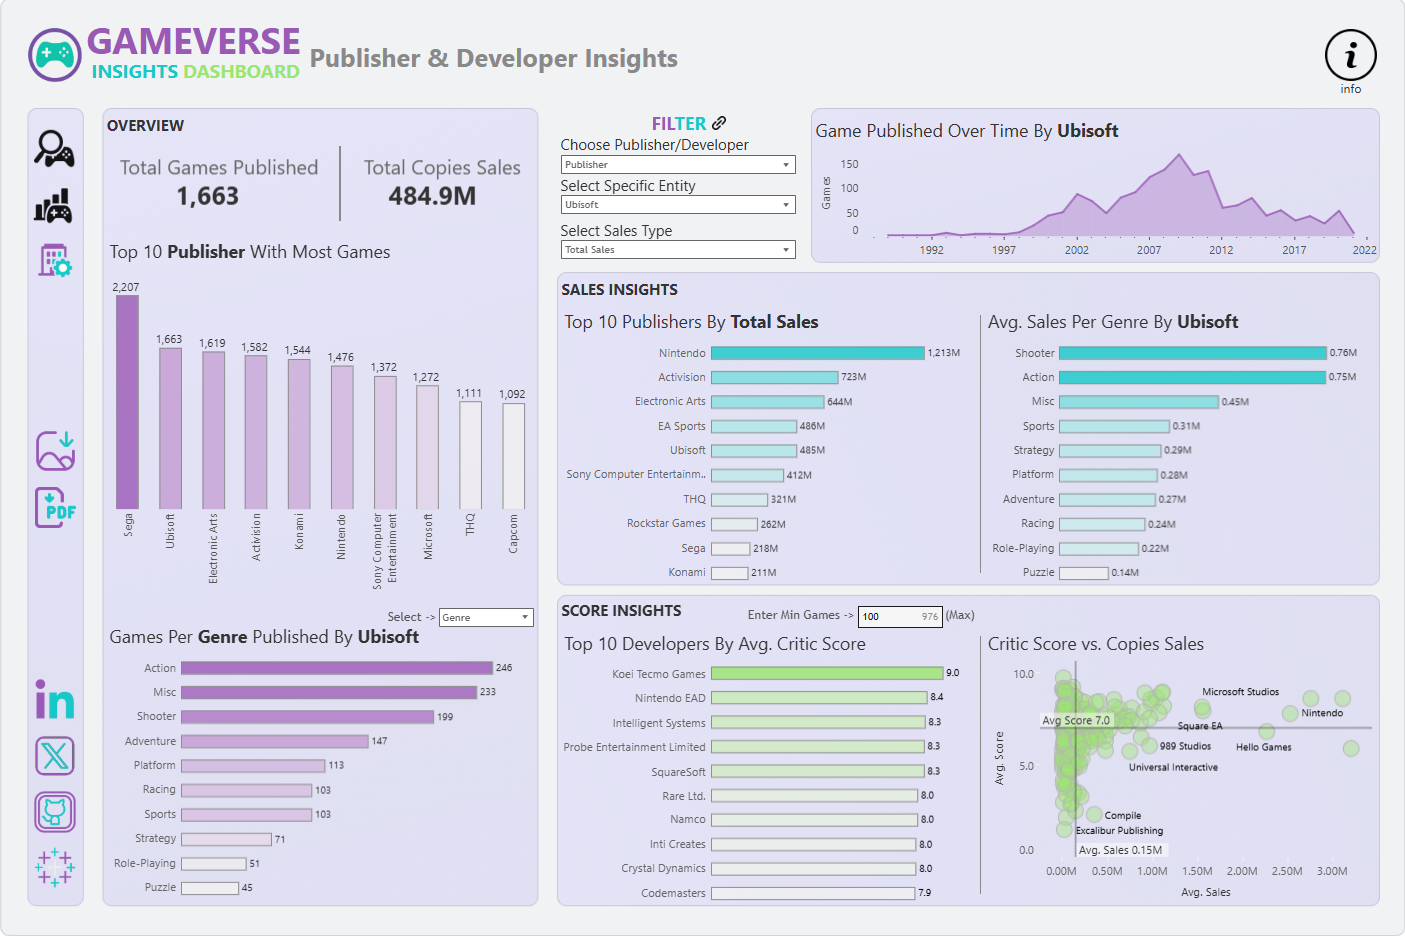

This screenshot's page, from the dashboard's own definition file:
{"tool":"tableau","page":{"name":"Dashboard 3","canvas":[1400,800],"ordinal":2},"visuals":[{"type":"image","param":"Image/Frame 3.png","box":[0,0,1400,800]},{"type":"blank","box":[26,3,698,98]},{"type":"image","param":"Image/Logo.png","box":[8,8,260,90]},{"type":"blank","box":[268,8,1124,90]},{"type":"dashboard-object","box":[1310,17,54,54]},{"type":"text","box":[275,33,566,43]},{"type":"blank","box":[91,104,1298,186]},{"type":"blank","box":[28,108,60,10]},{"type":"text","box":[108,108,465,25]},{"type":"parameter","param":"[Parameters].[Parameter 3]","box":[593,108,260,53]},{"type":"worksheet","title":"Pub/Dev Over Time","mark":"Line","rows":["title","title"],"cols":["release_date"],"box":[863,108,509,155]},{"type":"blank","box":[106,111,466,155]},{"type":"dashboard-object","box":[28,118,60,60]},{"type":"worksheet","title":"BAN - TotalGames","mark":"Automatic","box":[108,133,253,100]},{"type":"blank","box":[361,133,2,100]},{"type":"worksheet","title":"BANs - Sales/Score","mark":"Automatic","box":[363,133,210,100]},{"type":"filter","title":"Games per Con/Gen by Pub/Dev","param":"[federated.18w1nm404yaaw618ulkqm1dnj3dy].[none:Select Specific (copy)_1203305593","box":[593,161,260,49]},{"type":"dashboard-object","box":[28,178,60,60]},{"type":"parameter","param":"[Parameters].[Parameter 2]","box":[593,210,260,53]},{"type":"worksheet","title":"Top 10 Pub/Dev","mark":"Automatic","rows":["Video Games Data.csv_87575D1885CE4F9F9E11FA6B9C9073A3"],"cols":["Calculation_1203305593479016448"],"box":[108,233,465,248]},{"type":"dashboard-object","box":[28,238,60,60]},{"type":"text","box":[593,273,779,25]},{"type":"text","box":[91,290,1298,298]},{"type":"blank","box":[28,298,60,123]},{"type":"worksheet","title":"Top 10 Pub (sales)","mark":"Automatic","rows":["publisher"],"cols":["Calculation_1052435005628178432"],"box":[593,298,385,202]},{"type":"blank","box":[978,298,1,202]},{"type":"worksheet","title":"Avg Sales Per Genre By Pub","mark":"Automatic","rows":["genre"],"cols":["Calculation_1052435005628178432"],"box":[979,298,393,202]},{"type":"dashboard-object","box":[28,421,60,55]},{"type":"dashboard-object","box":[28,476,60,55]},{"type":"worksheet","title":"Games per Con/Gen by Pub/Dev","mark":"Automatic","rows":["Calculation_1272829846112575488"],"cols":["Video Games Data.csv_87575D1885CE4F9F9E11FA6B9C9073A3"],"box":[108,481,465,291]},{"type":"text","box":[413,488,126,30]},{"type":"parameter","param":"[Parameters].[Parameter 1]","box":[467,492,97,48]},{"type":"text","box":[593,510,779,25]},{"type":"text","box":[749,510,126,30]},{"type":"filter","title":"Top 10 Dev (Score)","param":"[federated.18w1nm404yaaw618ulkqm1dnj3dy].[sum:Calculation_680606561990561792:qk]","box":[870,516,85,33]},{"type":"blank","box":[28,531,60,50]},{"type":"worksheet","title":"Top 10 Dev (Score)","mark":"Bar","rows":["developer"],"cols":["Calculation_680606561990733825"],"box":[593,535,385,237]},{"type":"blank","box":[978,535,1,237]},{"type":"worksheet","title":"Score vs Sales","mark":"Shape","rows":["critic_score"],"cols":["total_sales"],"box":[979,535,393,237]},{"type":"image","param":"Image/contact-linkedin.png","box":[28,581,60,60]},{"type":"blank","box":[91,588,1298,186]},{"type":"image","param":"Image/contact-github.png","box":[28,641,60,61]},{"type":"image","param":"Image/contact-public.png","box":[28,702,60,60]},{"type":"blank","box":[28,762,60,10]}]}

Visuals, with their boxes on the page's 1400x800 design canvas (x1, y1, x2, y2). These are canvas units, not pixel positions in the 1405x936 screenshot, which may show the page scaled, cropped or inside an application window:
image: bbox(0, 0, 1400, 800)
blank: bbox(26, 3, 724, 101)
image: bbox(8, 8, 268, 98)
blank: bbox(268, 8, 1392, 98)
dashboard-object: bbox(1310, 17, 1364, 71)
text: bbox(275, 33, 841, 76)
blank: bbox(91, 104, 1389, 290)
blank: bbox(28, 108, 88, 118)
text: bbox(108, 108, 573, 133)
parameter: bbox(593, 108, 853, 161)
"Pub/Dev Over Time" worksheet (Line marks): bbox(863, 108, 1372, 263)
blank: bbox(106, 111, 572, 266)
dashboard-object: bbox(28, 118, 88, 178)
"BAN - TotalGames" worksheet: bbox(108, 133, 361, 233)
blank: bbox(361, 133, 363, 233)
"BANs - Sales/Score" worksheet: bbox(363, 133, 573, 233)
"Games per Con/Gen by Pub/Dev" filter: bbox(593, 161, 853, 210)
dashboard-object: bbox(28, 178, 88, 238)
parameter: bbox(593, 210, 853, 263)
"Top 10 Pub/Dev" worksheet: bbox(108, 233, 573, 481)
dashboard-object: bbox(28, 238, 88, 298)
text: bbox(593, 273, 1372, 298)
text: bbox(91, 290, 1389, 588)
blank: bbox(28, 298, 88, 421)
"Top 10 Pub (sales)" worksheet: bbox(593, 298, 978, 500)
blank: bbox(978, 298, 979, 500)
"Avg Sales Per Genre By Pub" worksheet: bbox(979, 298, 1372, 500)
dashboard-object: bbox(28, 421, 88, 476)
dashboard-object: bbox(28, 476, 88, 531)
"Games per Con/Gen by Pub/Dev" worksheet: bbox(108, 481, 573, 772)
text: bbox(413, 488, 539, 518)
parameter: bbox(467, 492, 564, 540)
text: bbox(593, 510, 1372, 535)
text: bbox(749, 510, 875, 540)
"Top 10 Dev (Score)" filter: bbox(870, 516, 955, 549)
blank: bbox(28, 531, 88, 581)
"Top 10 Dev (Score)" worksheet (Bar marks): bbox(593, 535, 978, 772)
blank: bbox(978, 535, 979, 772)
"Score vs Sales" worksheet (Shape marks): bbox(979, 535, 1372, 772)
image: bbox(28, 581, 88, 641)
blank: bbox(91, 588, 1389, 774)
image: bbox(28, 641, 88, 702)
image: bbox(28, 702, 88, 762)
blank: bbox(28, 762, 88, 772)
